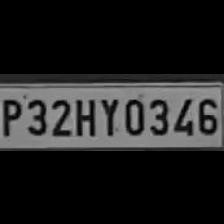0: (118, 93, 144, 135)
2: (48, 92, 72, 136)
3: (22, 94, 48, 136), (145, 93, 169, 135)
4: (170, 93, 194, 135)
6: (195, 93, 219, 135)
H: (72, 92, 96, 136)
P: (0, 94, 22, 136)
Y: (97, 92, 119, 136)
